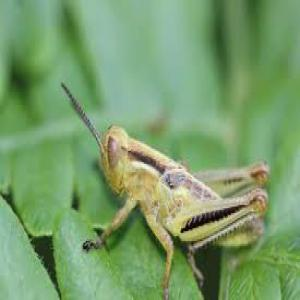locust: (84, 101, 291, 257)
